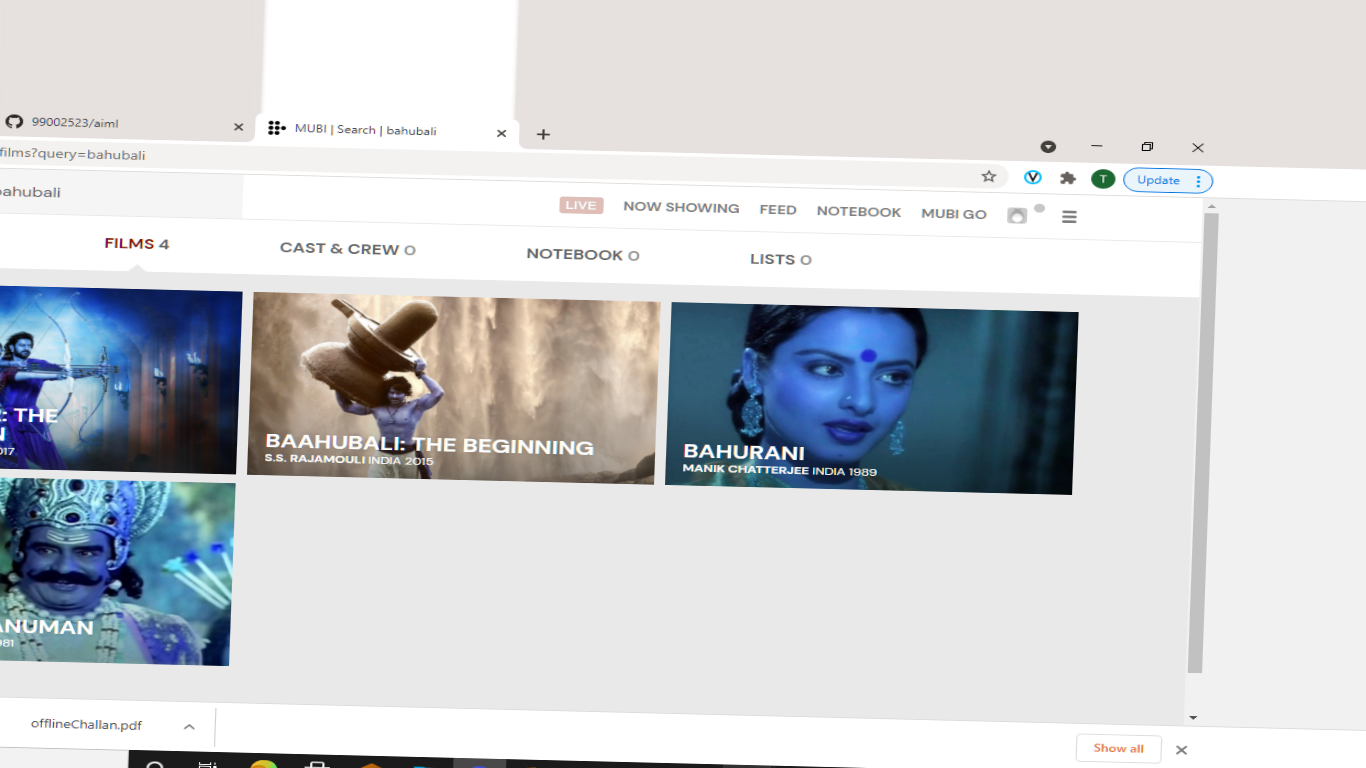profileicon: (1001, 201, 1048, 237)
searchtextbox: (1, 165, 245, 216)
